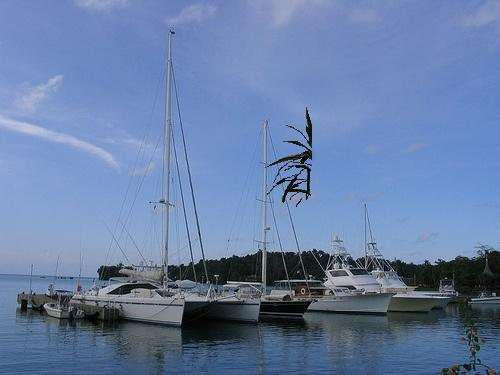tampered: (266, 108, 312, 207)
